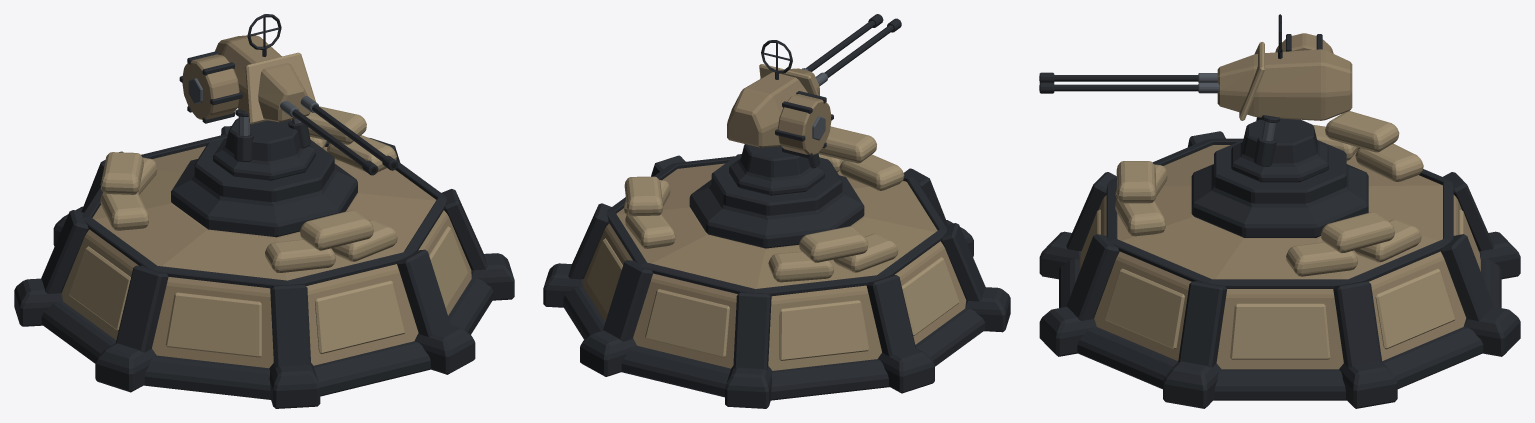
Rendered from aa3-halcon-n2.glb.
3 renders of one model, left to right at view 1: azimuth 30°, elevation 25°; view 2: azimuth 150°, elevation 25°; view 3: azimuth 270°, elevation 25°, orthographic. The views are drawn at different scales.
Parts seen in each view (by area): view 1: casco, gun_pitch, turret_yaw; view 2: casco, gun_pitch, turret_yaw; view 3: casco, gun_pitch, turret_yaw.
Part boxes in pixels (bbox=[...]): casco: bbox=[14, 106, 514, 408]; gun_pitch: bbox=[179, 14, 397, 175]; turret_yaw: bbox=[213, 109, 315, 180]; casco: bbox=[543, 126, 1010, 408]; gun_pitch: bbox=[727, 14, 901, 158]; turret_yaw: bbox=[729, 144, 824, 195]; casco: bbox=[1039, 111, 1520, 408]; gun_pitch: bbox=[1039, 14, 1352, 120]; turret_yaw: bbox=[1231, 115, 1328, 182].
Bounding box in the file's own units: 1 × 0.6714 × 1.
